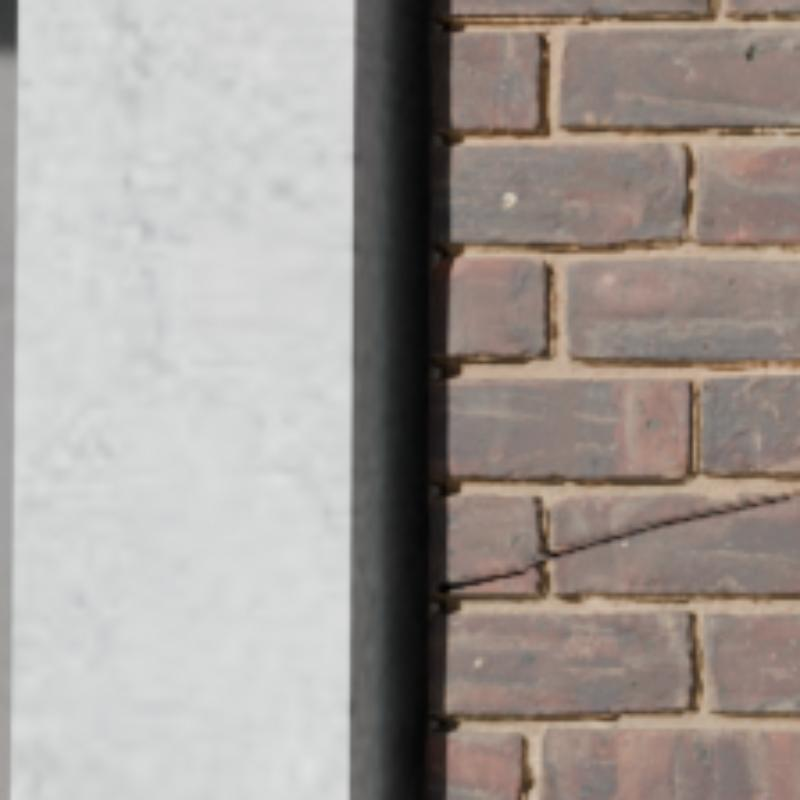pothole: (440, 493, 796, 593)
